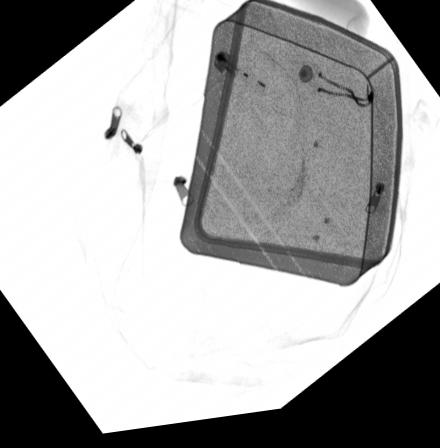Lighter: (212, 55, 269, 105)
